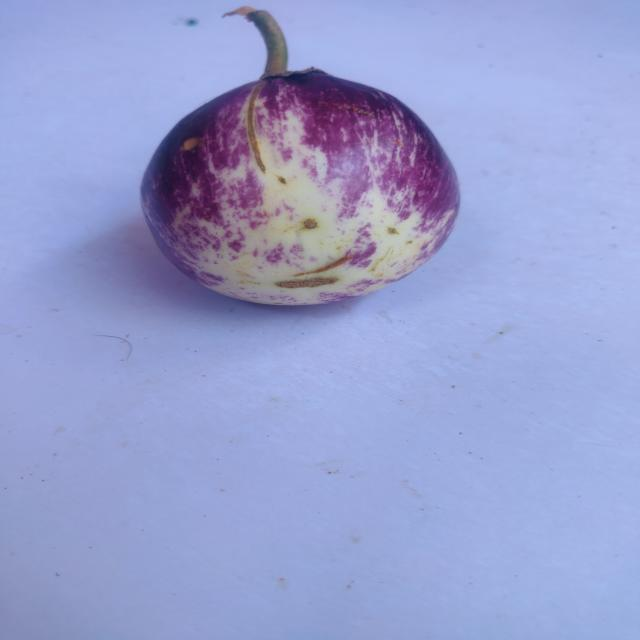Eggplant: (128, 0, 487, 319)
